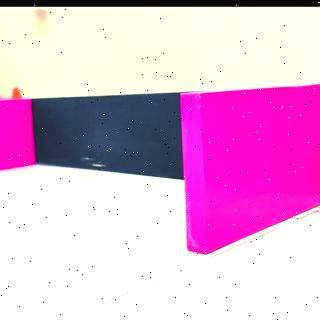xparking: (182, 94, 320, 235), (3, 100, 33, 168)
